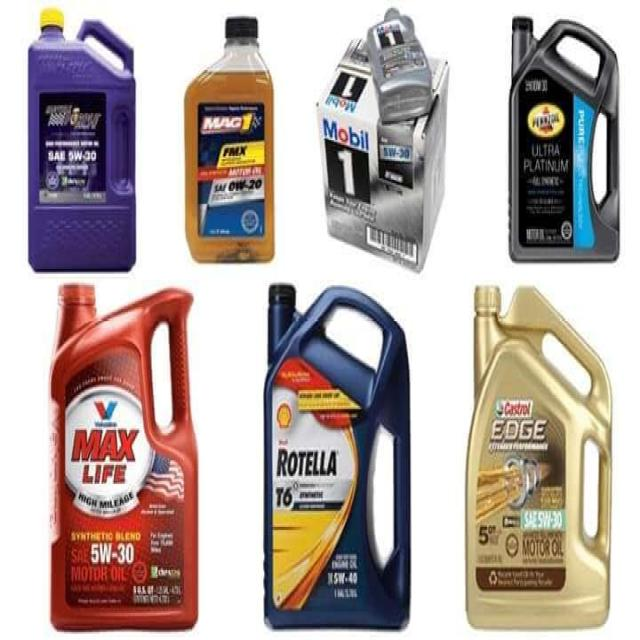motor_oil: (29, 286, 210, 632), (259, 271, 415, 640), (462, 270, 618, 631), (20, 3, 145, 284), (499, 17, 632, 273)
